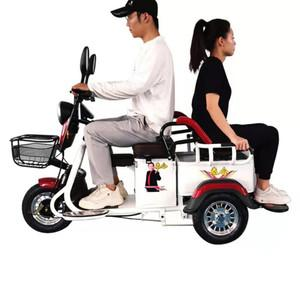driver: (74, 1, 175, 231)
overloading: (11, 1, 294, 248)
passenger: (184, 14, 293, 219)
